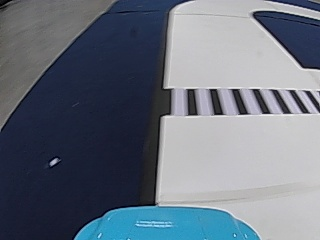CrossWalk: (165, 87, 315, 116)
